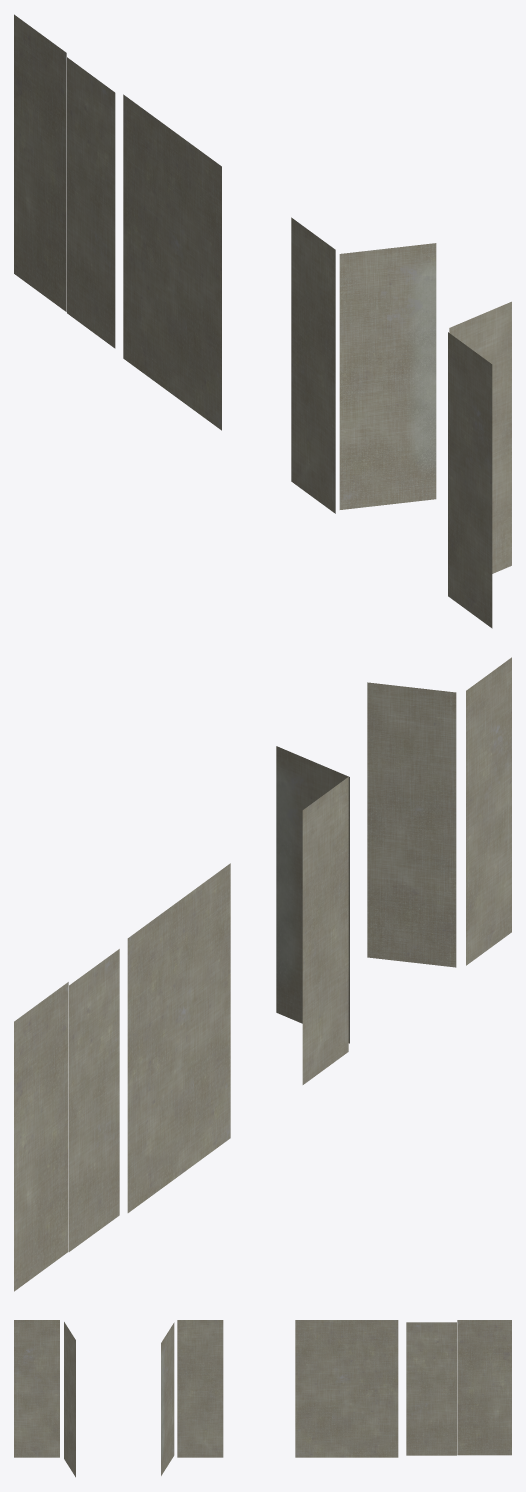
File: TraditionalKoreanHouse_PaperA.fbx
The picture shows the model from 3 angles, top to bottom: view 1: azimuth 30°, elevation 25°; view 2: azimuth 150°, elevation 25°; view 3: azimuth 270°, elevation 25°; orthographic projection. The views are drawn at different scales.
Visible parts, largest first — view 1: TraditionalKoreanHouse_PaperA; view 2: TraditionalKoreanHouse_PaperA; view 3: TraditionalKoreanHouse_PaperA.
Part boxes in pixels (bbox=[...]): TraditionalKoreanHouse_PaperA: bbox=[14, 14, 511, 628]; TraditionalKoreanHouse_PaperA: bbox=[14, 657, 511, 1291]; TraditionalKoreanHouse_PaperA: bbox=[14, 1320, 511, 1477].
Bounding box in the file's own units: 54.06 × 160 × 526.
